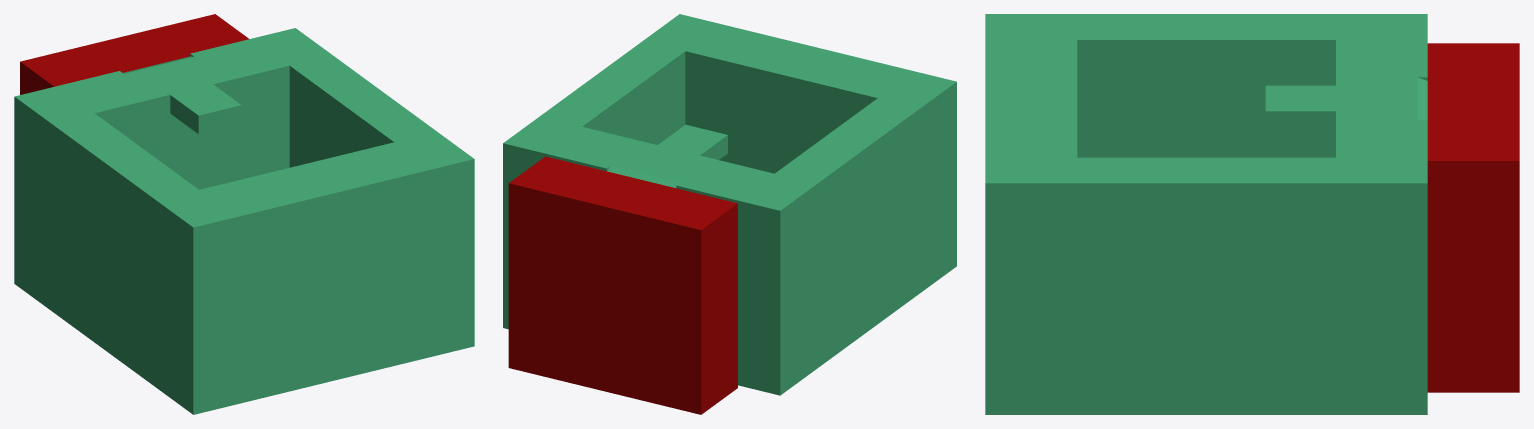
The model's file is platformStructure.fbx.
3 renders of one model, left to right at view 1: azimuth 30°, elevation 25°; view 2: azimuth 150°, elevation 25°; view 3: azimuth 270°, elevation 25°, orthographic. The views are drawn at different scales.
Visible parts, largest first — view 1: backPath, rightPath, frontPath, leftPath, backPath1, platform; view 2: backPath1, rightPath, backPath, leftPath, frontPath, platform, ramp; view 3: leftPath, backPath, rightPath, backPath1, frontPath, platform.
Boxes of the visible parts, x1,y1,x2,y2 form: backPath: (156,132,474,414); rightPath: (14,86,198,387); frontPath: (58,38,289,189); leftPath: (253,28,436,167); backPath1: (20,14,249,94); platform: (170,84,241,134); backPath1: (508,156,737,414); rightPath: (738,98,920,395); backPath: (643,14,956,292); leftPath: (503,41,685,329); frontPath: (545,127,773,203); platform: (658,124,727,159); ramp: (607,165,679,187); leftPath: (1077,157,1427,414); backPath: (985,14,1077,414); rightPath: (1077,14,1427,157); backPath1: (1427,43,1519,392); frontPath: (1336,40,1427,157); platform: (1265,85,1335,134).
Bounding box in the file's own units: 157 × 102 × 209.
